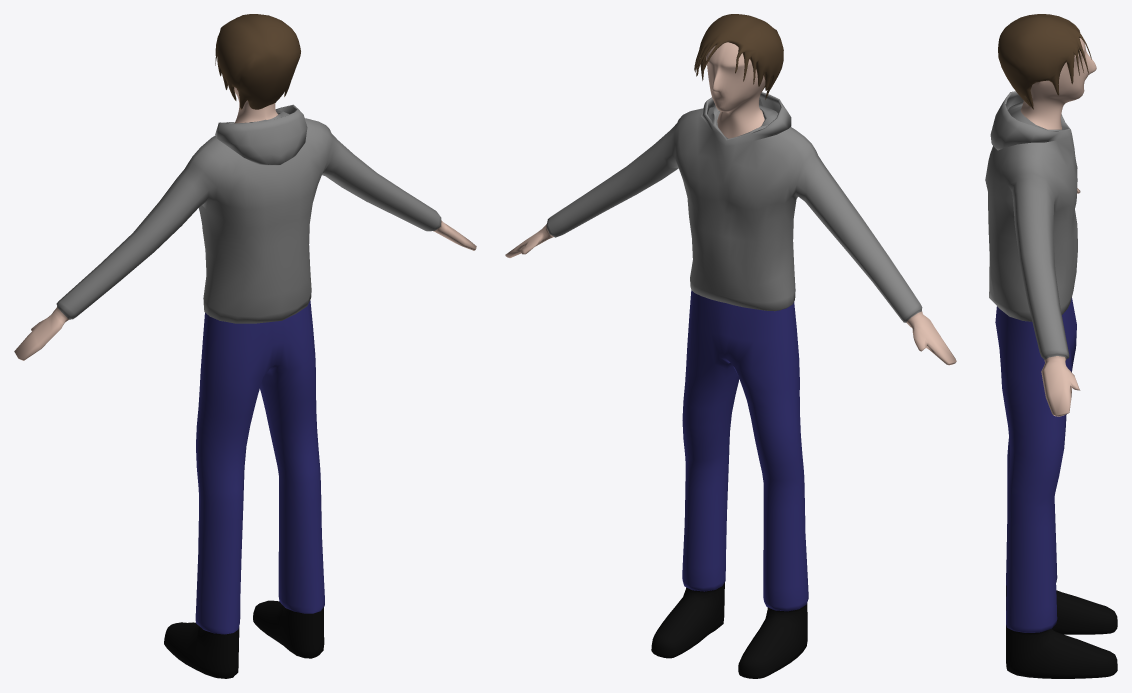
The model's file is Hijo FBX.fbx.
The picture shows the model from 3 angles, left to right: view 1: azimuth 30°, elevation 25°; view 2: azimuth 150°, elevation 25°; view 3: azimuth 270°, elevation 25°; orthographic projection. The views are drawn at different scales.
Parts seen in each view (by area): view 1: Hijo_Pants, Hijo_TopClothes, Hijo_Hair.001; view 2: Hijo_Pants, Hijo_TopClothes, Hijo_Head, Hijo_Hair.001; view 3: Hijo_Pants, Hijo_TopClothes, Hijo_Hair.001, Hijo_Head.
Part boxes in pixels (box(x1,y1,x2,y2)): Hijo_Pants: box(164, 300, 324, 678); Hijo_TopClothes: box(14, 104, 476, 360); Hijo_Hair.001: box(215, 14, 300, 109); Hijo_Pants: box(651, 290, 808, 678); Hijo_TopClothes: box(505, 92, 956, 365); Hijo_Head: box(706, 42, 765, 138); Hijo_Hair.001: box(694, 14, 783, 99); Hijo_Pants: box(995, 298, 1117, 678); Hijo_TopClothes: box(985, 91, 1080, 416); Hijo_Hair.001: box(998, 14, 1091, 109); Hijo_Head: box(1020, 38, 1096, 129).
Bounding box in the file's own units: 317 × 422 × 79.75.
